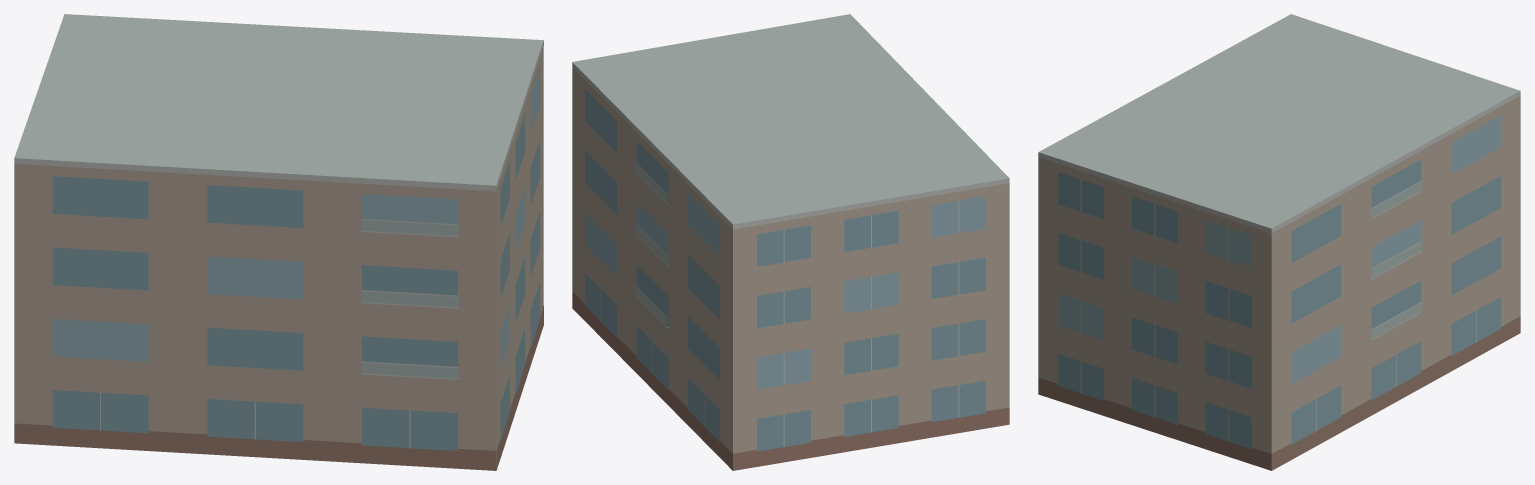
The model's file is survey-upis-32998492.glb.
3 renders of one model, left to right at view 1: azimuth 30°, elevation 25°; view 2: azimuth 150°, elevation 25°; view 3: azimuth 270°, elevation 25°, orthographic. The views are drawn at different scales.
Parts seen in each view (by area): view 1: survey-upis-32998492.tmp; view 2: survey-upis-32998492.tmp; view 3: survey-upis-32998492.tmp.
Boxes of the visible parts, x1,y1,x2,y2 form: survey-upis-32998492.tmp: (14,14,543,470); survey-upis-32998492.tmp: (572,14,1009,470); survey-upis-32998492.tmp: (1038,14,1520,470).
Size of the model in its own units: 23.39 by 12.3 by 22.21.
